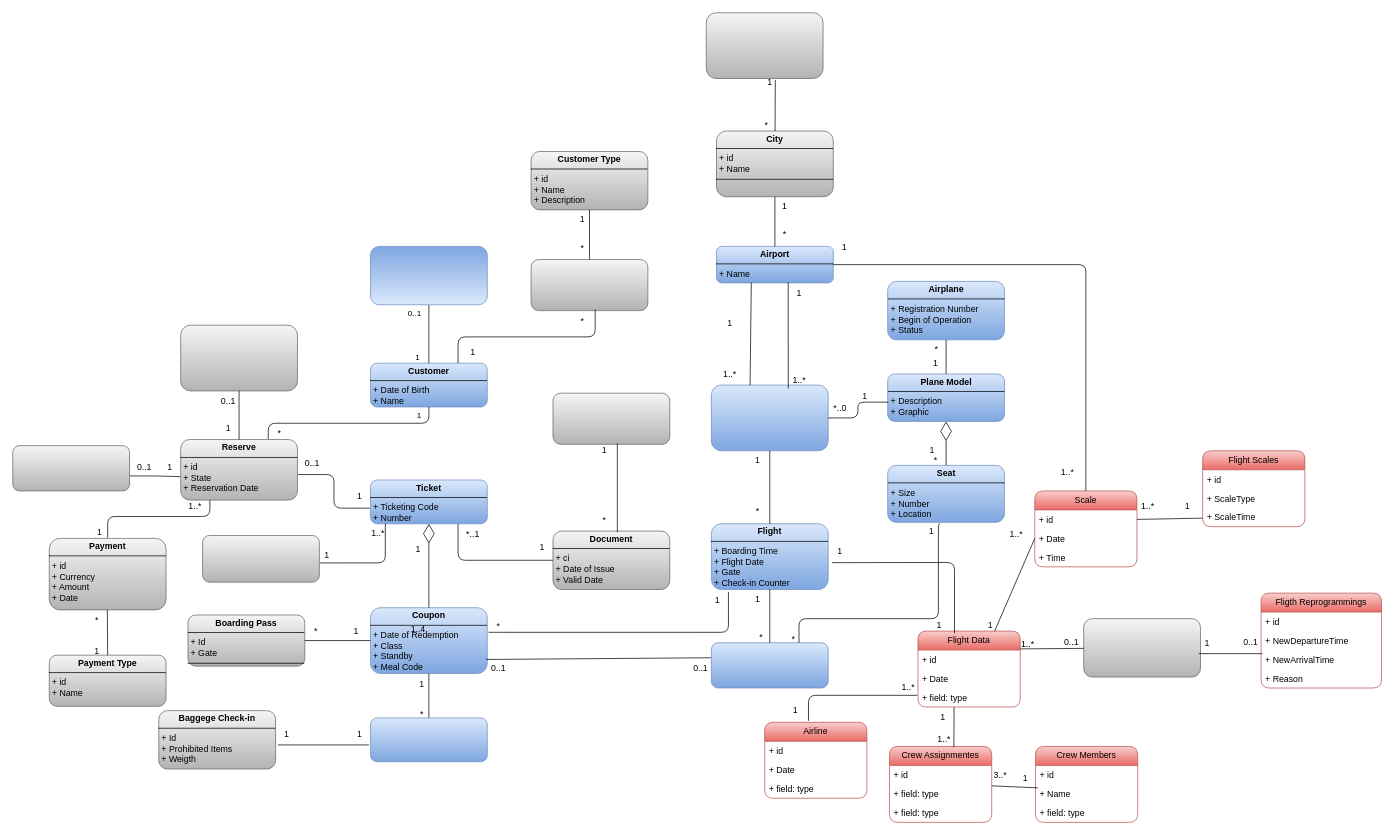
The diagram is 1394 pixels wide and 837 high, and some of its shapes have lost their labels. Each missing label, with the centre of its shape:
Available Seat + id: the point at 769,665
Cancellation + id + Reason + Cancellation Date + Penalty: the point at 238,357
Category + id + Name: the point at 260,558
Confirmation + id + Date: the point at 71,468
Country + id + name: the point at 764,45
Flight Cancellation + id + Reason + Cancellation Date: the point at 1141,647
Flight Number + Departure Time + Description + Type + Airline: the point at 769,417
Frequent Flyer Card + FFC Number + Miles + MealCode: the point at 428,275
Pieces of Luggage + Number + Weight: the point at 428,739
Type Assignment + id + Date: the point at 589,285
Type Document + id + Name: the point at 611,418
